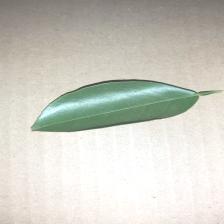healthy: (33, 76, 218, 136)
